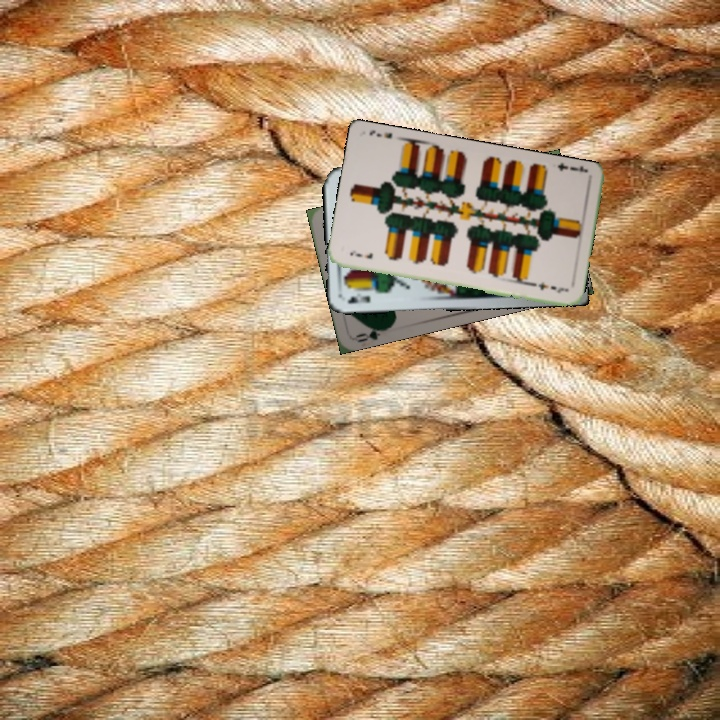E7: (553, 159, 590, 175), (346, 246, 375, 261)
EK: (344, 291, 372, 307)
GO: (352, 323, 391, 345)
